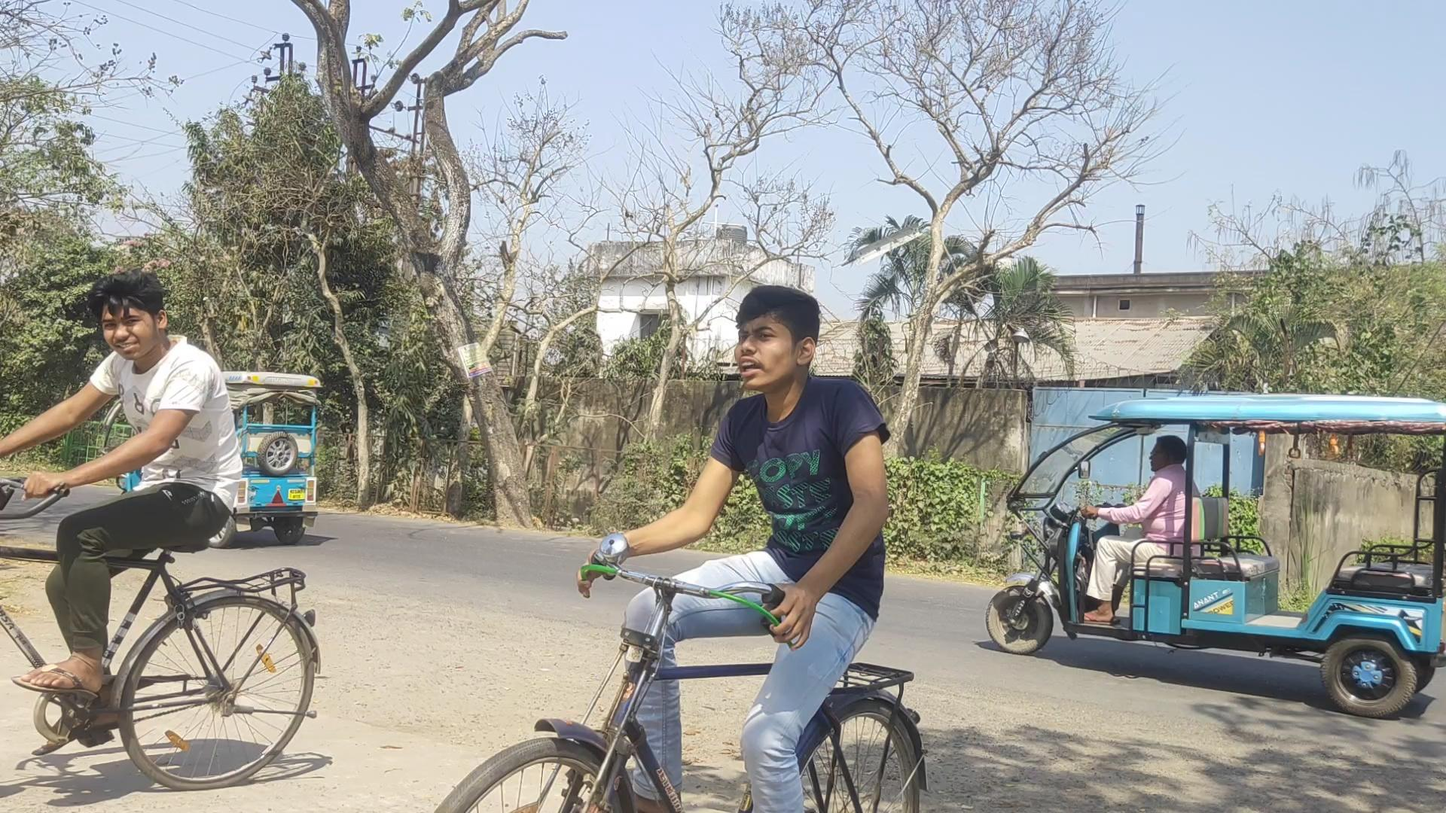Auto: (985, 395, 1444, 719), (97, 369, 322, 550)
bike: (432, 285, 928, 813), (1, 273, 322, 813)
